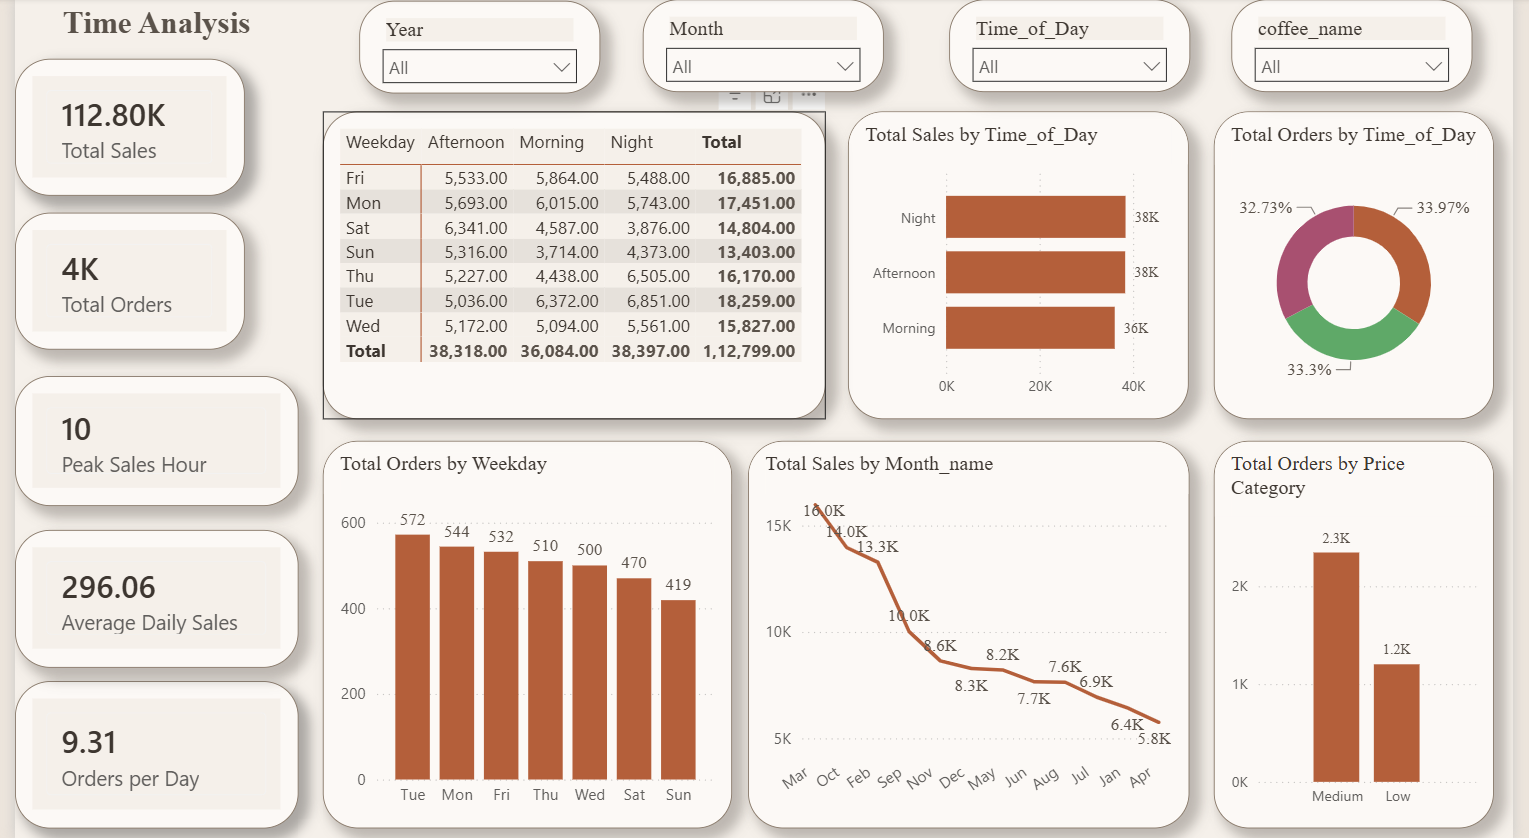

What the dashboard file says about the page in this screenshot:
{"tool":"powerbi","page":{"name":"Time Analysis","canvas":[1280,720],"ordinal":2},"visuals":[{"type":"cardVisual","fields":{"Data":["Coffee_shop sales.Total Sales"]},"box":[0,51.8,196.1,117.1],"z":0},{"type":"cardVisual","fields":{"Data":["Coffee_shop sales.Orders per Day"]},"box":[0,583.8,242.1,125.6],"z":1000},{"type":"cardVisual","fields":{"Data":["Coffee_shop sales.Total Orders"]},"box":[0,183.8,196.1,117.1],"z":2000},{"type":"cardVisual","fields":{"Data":["Coffee_shop sales.Average Daily Sales"]},"box":[0,454.4,242.1,117.8],"z":3000},{"type":"textbox","box":[0,0,242.1,51.8],"z":4000},{"type":"clusteredBarChart","fields":{"Category":["Coffee_shop sales.Time_of_Day"],"Y":["Coffee_shop sales.Total Sales"]},"box":[712,97.1,291.3,262.8],"z":5000},{"type":"columnChart","fields":{"Category":["Coffee_shop sales.Weekday"],"Y":["Coffee_shop sales.Total Orders"]},"box":[262.8,378,349.5,331.4],"z":6000},{"type":"lineChart","fields":{"Category":["Coffee_shop sales.Month_name"],"Y":["Coffee_shop sales.Total Sales"]},"box":[626.6,378,376.7,331.4],"z":7000},{"type":"pivotTable","fields":{"Columns":["Coffee_shop sales.Time_of_Day"],"Rows":["Coffee_shop sales.Weekday"],"Values":["Coffee_shop sales.Total Sales"]},"box":[262.8,97.1,429.8,262.8],"z":8000},{"type":"cardVisual","fields":{"Data":["Coffee_shop sales.Peak Sales Hour"]},"box":[0,322.3,242.1,111.3],"z":9000},{"type":"donutChart","fields":{"Category":["Coffee_shop sales.Time_of_Day"],"Y":["Coffee_shop sales.Total Orders"]},"box":[1024,97.1,239.5,262.8],"z":10000},{"type":"slicer","fields":{"Values":["Coffee_shop sales.Year"]},"box":[293.9,2.6,205.8,79],"z":11000},{"type":"slicer","fields":{"Values":["Coffee_shop sales.Month"]},"box":[535.9,1.3,205.8,79],"z":12000},{"type":"slicer","fields":{"Values":["Coffee_shop sales.coffee_name"]},"box":[1039.5,1.3,205.8,79],"z":13000},{"type":"slicer","fields":{"Values":["Coffee_shop sales.Time_of_Day"]},"box":[797.5,1.3,205.8,79],"z":14000},{"type":"columnChart","fields":{"Category":["Coffee_shop sales.Price Category"],"Y":["Coffee_shop sales.Total Orders"]},"box":[1024,378,239.5,331.4],"z":14001}]}

Visuals, with their boxes in screenshot pixels (x1, y1, x2, y2), scaled from the page's 1280x720 canvas onto the 1529x838 screenshot:
cardVisual - Coffee_shop sales.Total Sales: l=0, t=60, r=234, b=197
cardVisual - Coffee_shop sales.Orders per Day: l=0, t=679, r=289, b=826
cardVisual - Coffee_shop sales.Total Orders: l=0, t=214, r=234, b=350
cardVisual - Coffee_shop sales.Average Daily Sales: l=0, t=529, r=289, b=666
textbox: l=0, t=0, r=289, b=60
clusteredBarChart - Coffee_shop sales.Time_of_Day x Coffee_shop sales.Total Sales: l=851, t=113, r=1198, b=419
columnChart - Coffee_shop sales.Weekday x Coffee_shop sales.Total Orders: l=314, t=440, r=731, b=826
lineChart - Coffee_shop sales.Month_name x Coffee_shop sales.Total Sales: l=748, t=440, r=1198, b=826
pivotTable - Coffee_shop sales.Time_of_Day x Coffee_shop sales.Weekday: l=314, t=113, r=827, b=419
cardVisual - Coffee_shop sales.Peak Sales Hour: l=0, t=375, r=289, b=505
donutChart - Coffee_shop sales.Time_of_Day x Coffee_shop sales.Total Orders: l=1223, t=113, r=1509, b=419
slicer - Coffee_shop sales.Year: l=351, t=3, r=597, b=95
slicer - Coffee_shop sales.Month: l=640, t=2, r=886, b=93
slicer - Coffee_shop sales.coffee_name: l=1242, t=2, r=1488, b=93
slicer - Coffee_shop sales.Time_of_Day: l=953, t=2, r=1198, b=93
columnChart - Coffee_shop sales.Price Category x Coffee_shop sales.Total Orders: l=1223, t=440, r=1509, b=826
